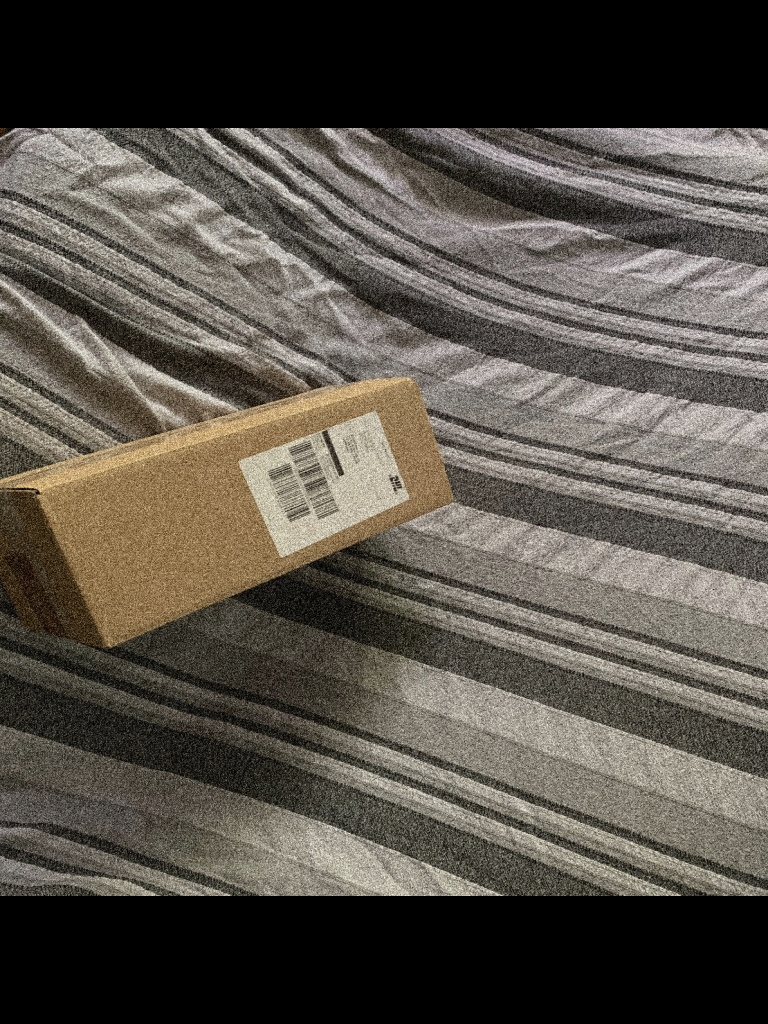good-parcel: (0, 376, 553, 689)
